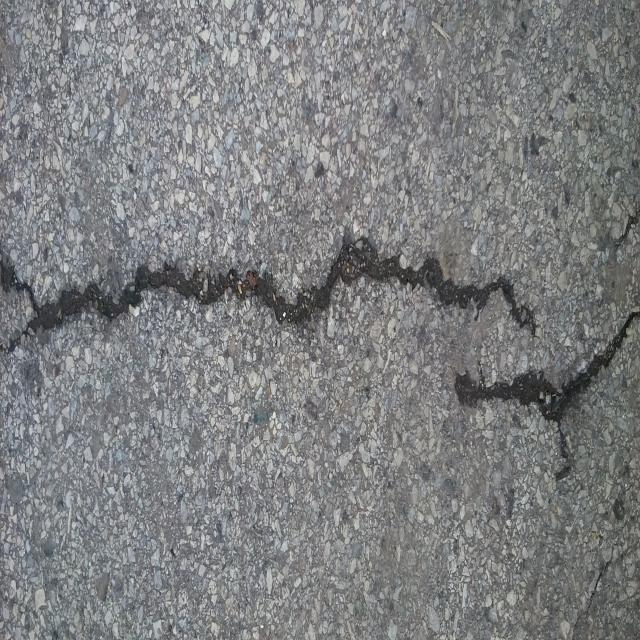transverse: (0, 182, 539, 350), (444, 319, 640, 442)
